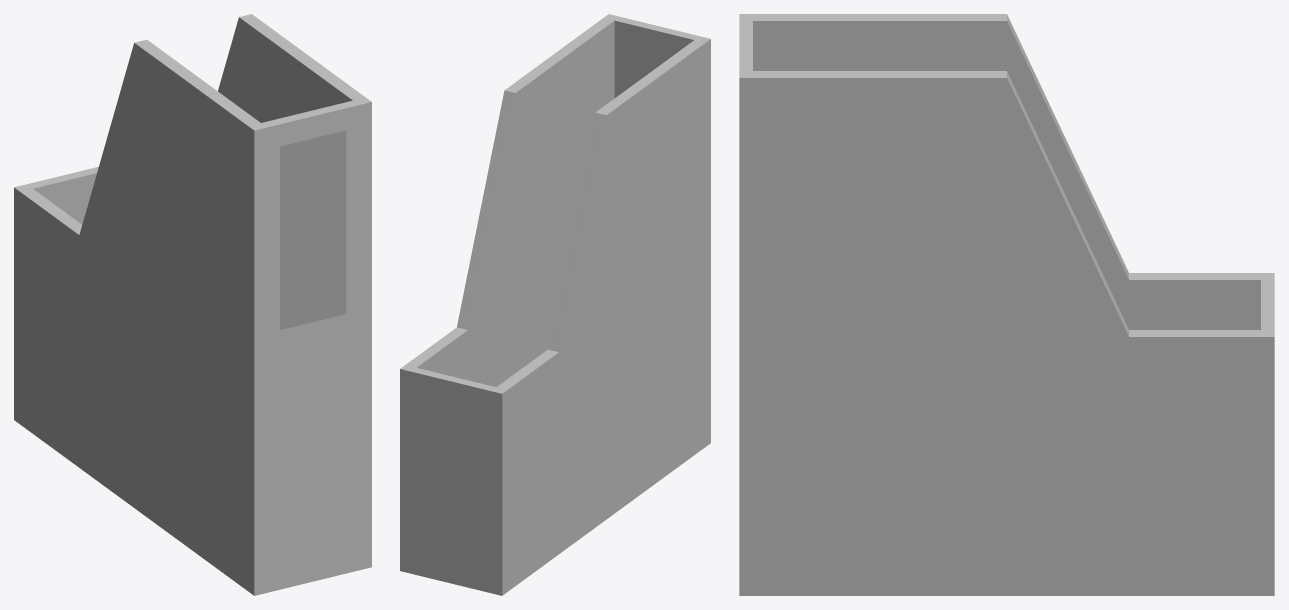
File: FileHolderV2White.fbx
The picture shows the model from 3 angles, left to right: view 1: azimuth 30°, elevation 25°; view 2: azimuth 150°, elevation 25°; view 3: azimuth 270°, elevation 25°; orthographic projection. The views are drawn at different scales.
Visible parts, largest first — view 1: FileHolderV2White; view 2: FileHolderV2White; view 3: FileHolderV2White.
Part boxes in pixels (x1,y1,x2,y2): FileHolderV2White: (14, 14, 371, 595); FileHolderV2White: (400, 14, 710, 595); FileHolderV2White: (739, 14, 1274, 595).
Bounding box in the file's own units: 7.39 × 27.94 × 26.15.
